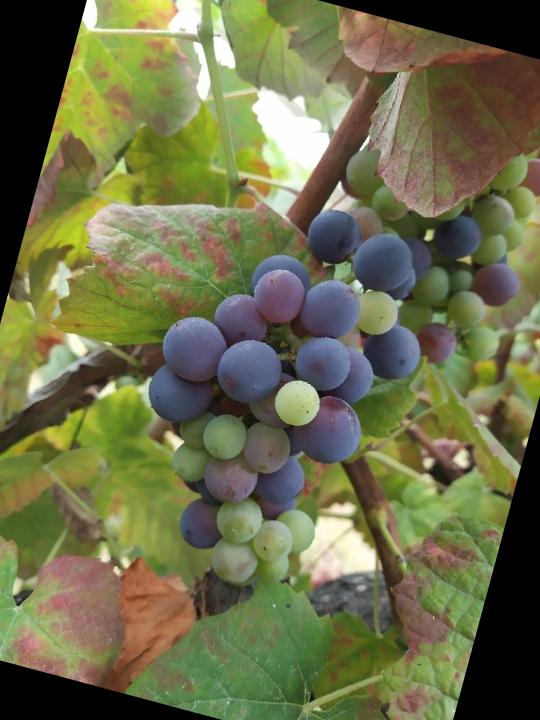grape: (101, 171, 457, 620)
